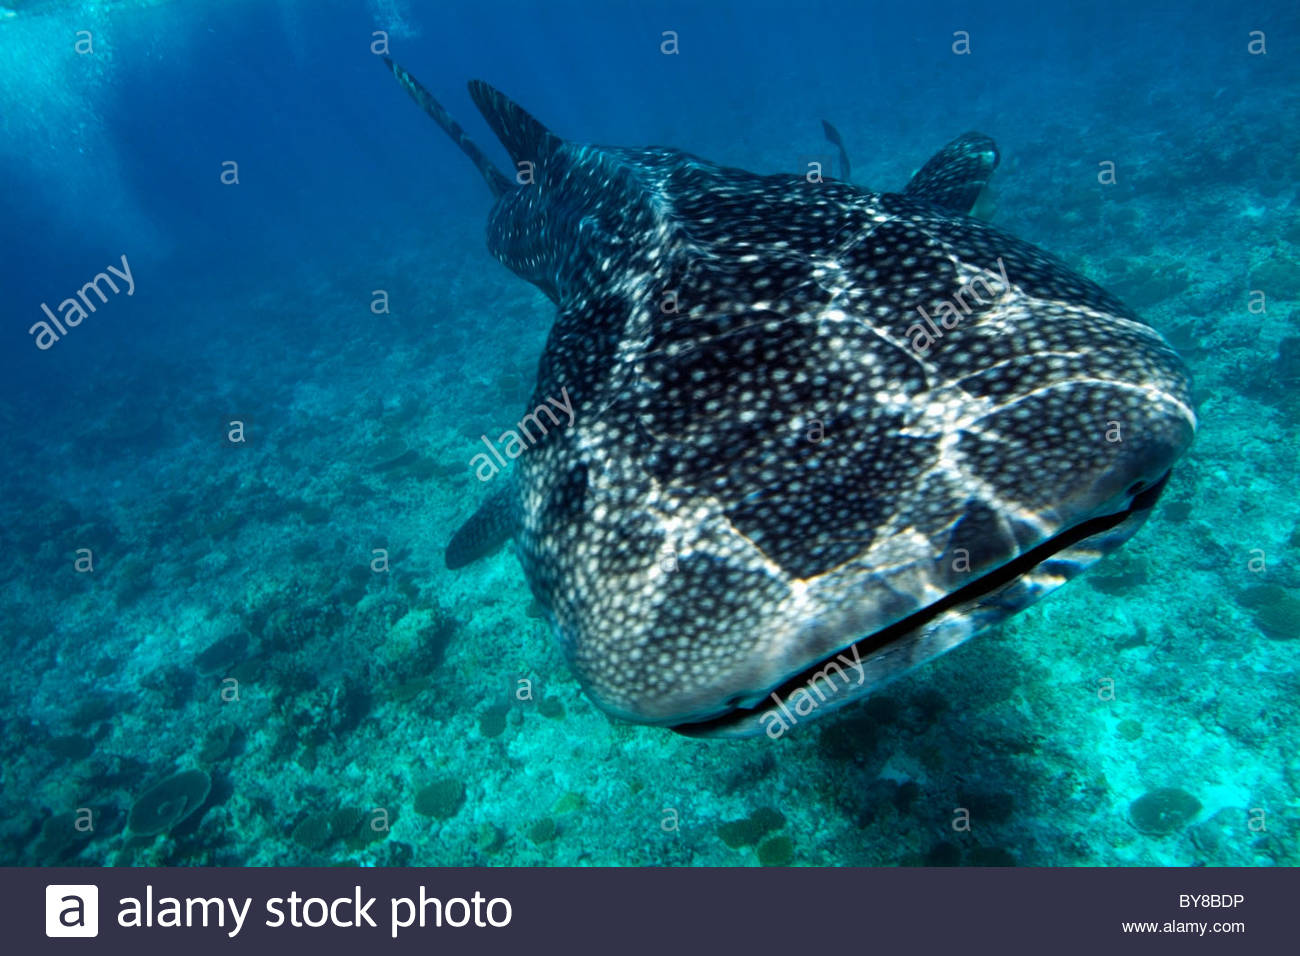Rhincodon_typusw: (365, 45, 1269, 828)
